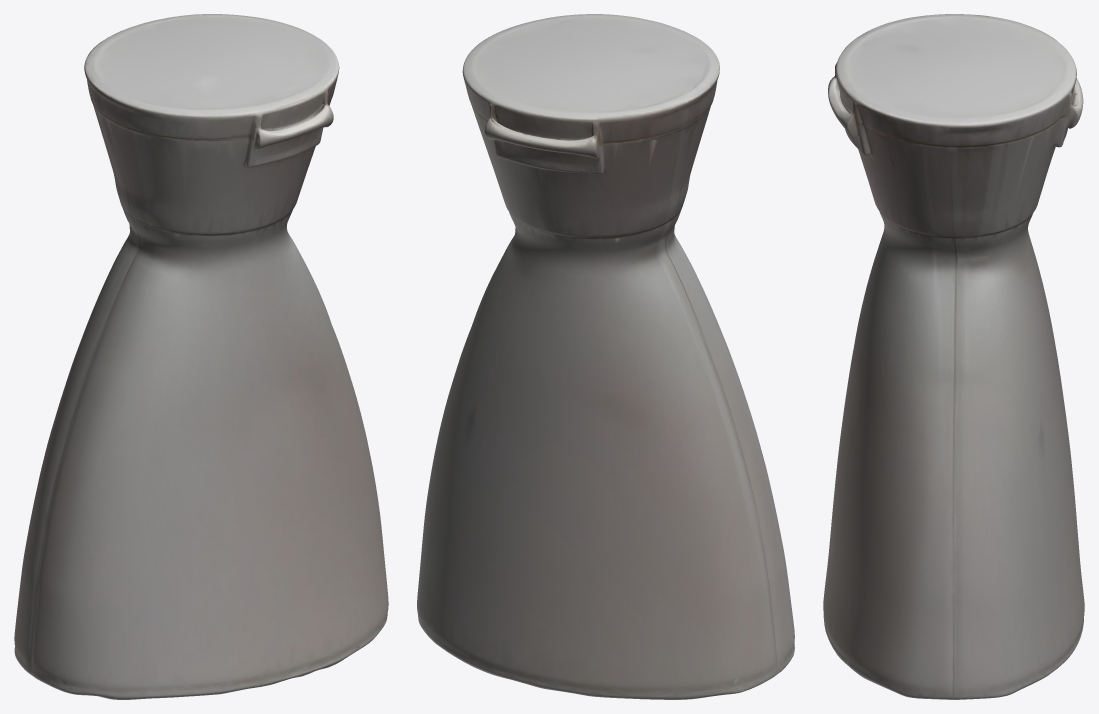
File: lotion-bottle-optimized.glb
The picture shows the model from 3 angles, left to right: view 1: azimuth 30°, elevation 25°; view 2: azimuth 150°, elevation 25°; view 3: azimuth 270°, elevation 25°; orthographic projection. The views are drawn at different scales.
Parts seen in each view (by area): view 1: node_0; view 2: node_0; view 3: node_0.
Part boxes in pixels (<box>): node_0: <box>14,14,388,699</box>; node_0: <box>417,14,794,699</box>; node_0: <box>823,14,1084,699</box>.
Size of the model in its own units: 0.6396 by 1.03 by 0.431.
1 material, 1 textured.
